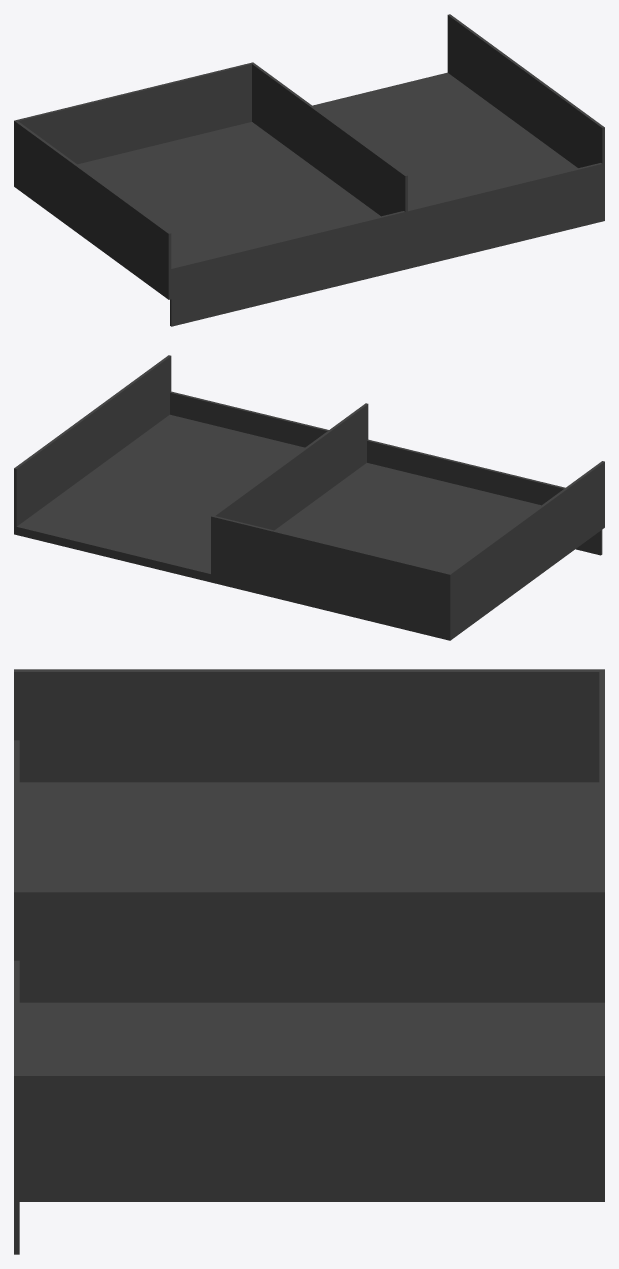
The model's file is ZonaMundoPelea-0-ZonaNave.obj.
3 renders of one model, top to bottom at view 1: azimuth 30°, elevation 25°; view 2: azimuth 150°, elevation 25°; view 3: azimuth 270°, elevation 25°, orthographic. The views are drawn at different scales.
Visible parts, largest first — view 1: ZonaNave; view 2: ZonaNave; view 3: ZonaNave.
Part boxes in pixels (left/top/right/bottom): ZonaNave: left=14, top=14, right=604, bottom=326; ZonaNave: left=14, top=355, right=604, bottom=640; ZonaNave: left=14, top=669, right=604, bottom=1254.
Bounding box in the file's own units: 16.6 × 3.4 × 10.2.
1 material, 1 textured.
